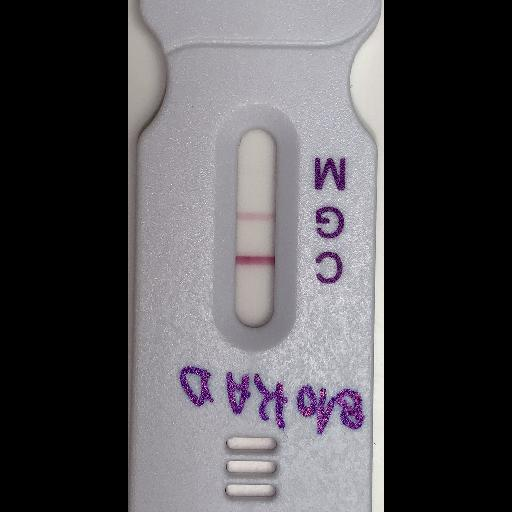Pos: (128, 0, 373, 509)
